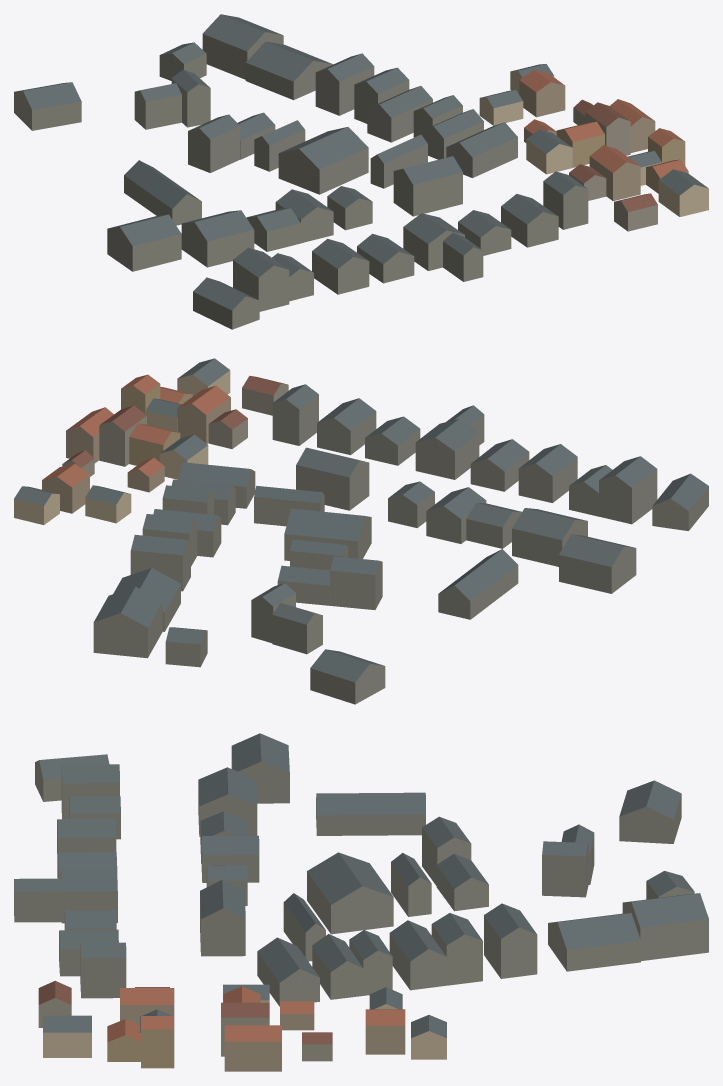
3 renders of one model, top to bottom at view 1: azimuth 30°, elevation 25°; view 2: azimuth 150°, elevation 25°; view 3: azimuth 270°, elevation 25°, orthographic. The views are drawn at different scales.
Visible parts, largest first — view 1: C_-4_0; view 2: C_-4_0; view 3: C_-4_0.
Boxes of the visible parts, x1,y1,x2,y2 form: C_-4_0: (14, 14, 708, 329); C_-4_0: (14, 358, 708, 704); C_-4_0: (14, 733, 708, 1071).
Bounding box in the file's own units: 186 × 14.6 × 184.
